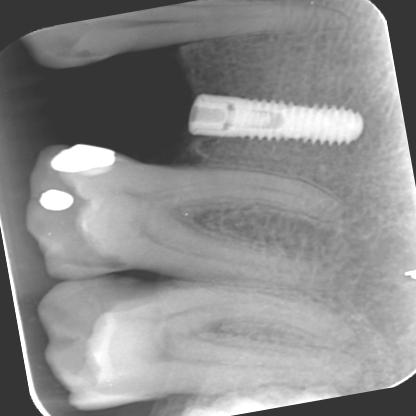Bego: (215, 94, 376, 150)
